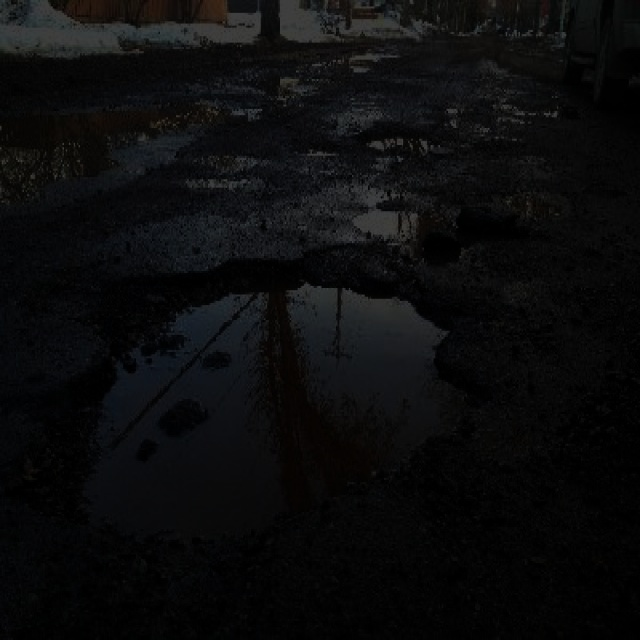Pothole: (29, 247, 486, 540), (361, 124, 434, 156), (500, 188, 574, 218), (352, 202, 418, 235)
